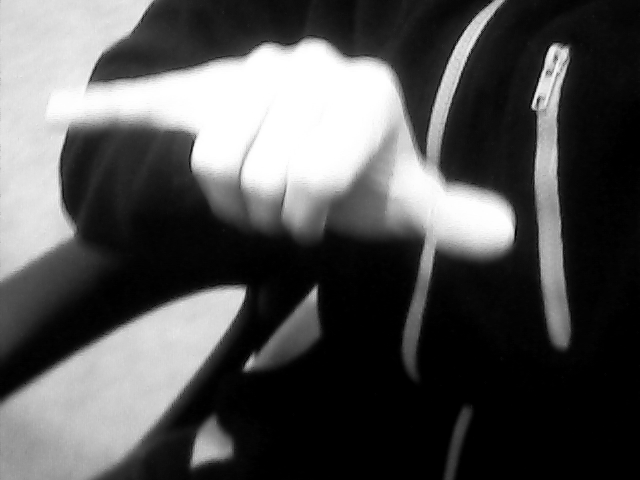aloha: (50, 35, 519, 265)
